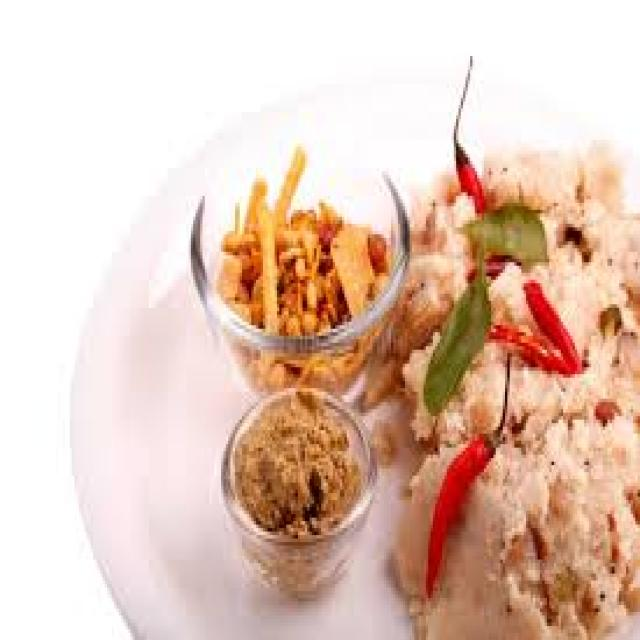UPMA: (384, 147, 635, 637)
